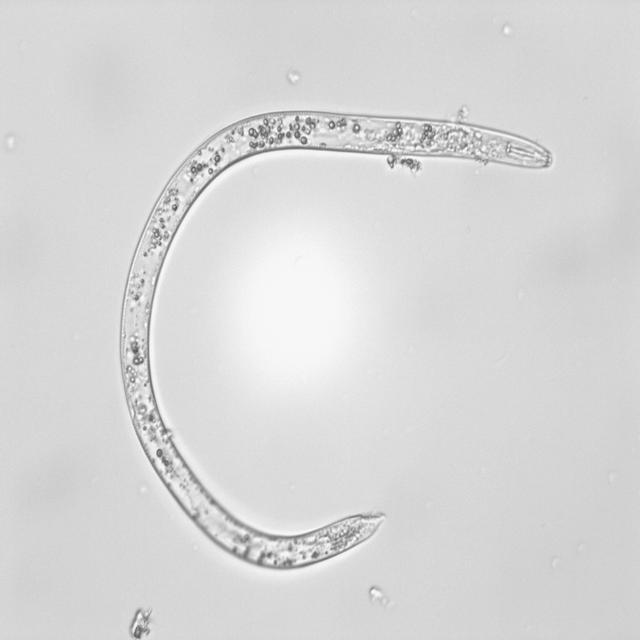Helicotylenchus: (104, 107, 566, 578)
